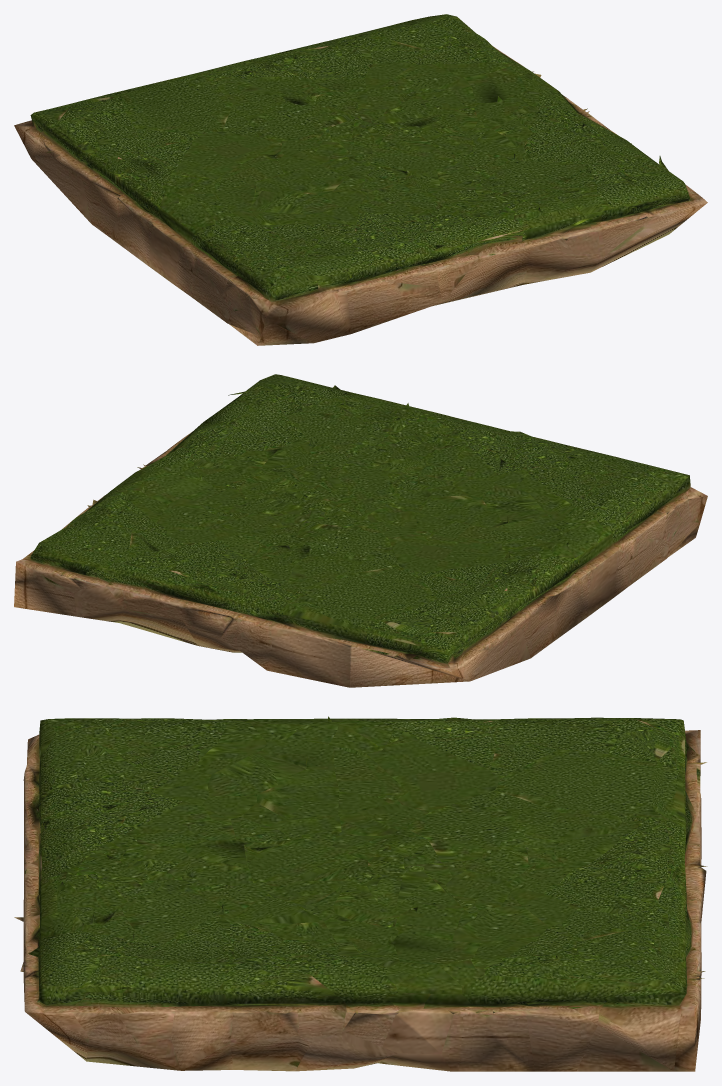
The model's file is pnl_lawn_lod1.glb.
3 renders of one model, top to bottom at view 1: azimuth 30°, elevation 25°; view 2: azimuth 150°, elevation 25°; view 3: azimuth 270°, elevation 25°, orthographic. The views are drawn at different scales.
Parts seen in each view (by area): view 1: tripo_node_a798ef68-236f-4c10-99d6-54520b6235b9; view 2: tripo_node_a798ef68-236f-4c10-99d6-54520b6235b9; view 3: tripo_node_a798ef68-236f-4c10-99d6-54520b6235b9.
Part boxes in pixels (x1,y1,x2,y2): tripo_node_a798ef68-236f-4c10-99d6-54520b6235b9: [14, 14, 707, 345]; tripo_node_a798ef68-236f-4c10-99d6-54520b6235b9: [14, 374, 707, 687]; tripo_node_a798ef68-236f-4c10-99d6-54520b6235b9: [14, 716, 707, 1071].
Size of the model in its own units: 1.3 by 0.1927 by 1.3.
Materials: 1 (1 with a texture image).
